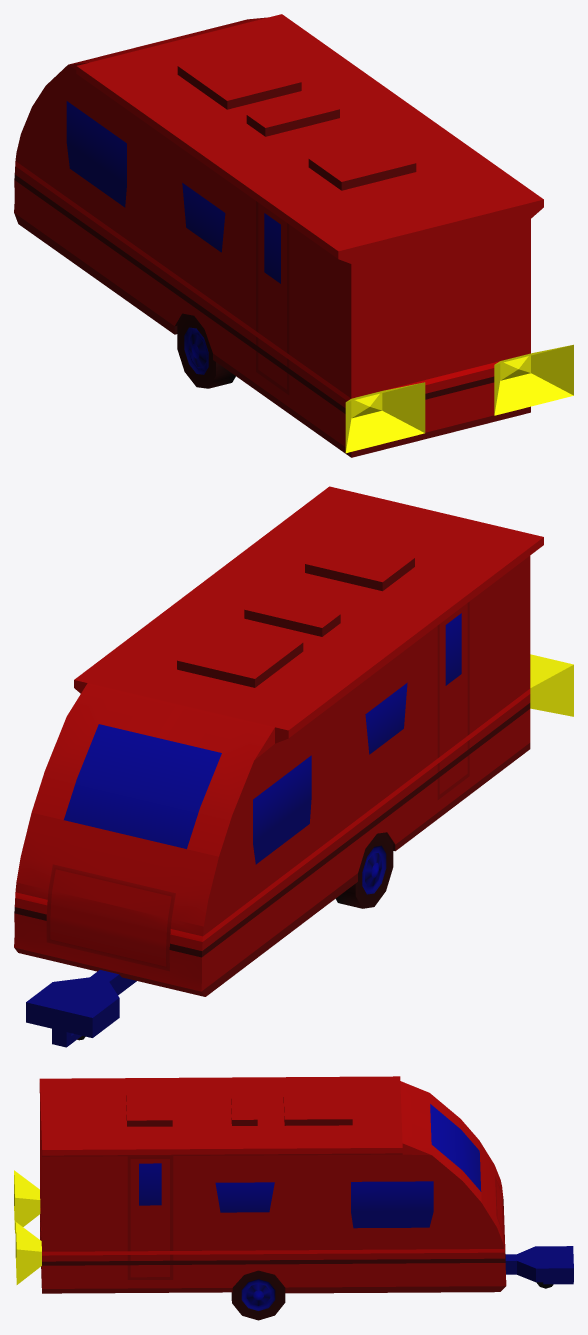
The model's file is Mesh.Caravan.fbx.
3 views of the same model, one above another, from view 1: azimuth 30°, elevation 25°; view 2: azimuth 150°, elevation 25°; view 3: azimuth 270°, elevation 25° (orthographic). The views are drawn at different scales.
Visible parts, largest first — view 1: base.180, light.013, windowRefl.138, refl.049; view 2: base.180, windowRefl.138, refl.049, light.013; view 3: base.180, windowRefl.138, refl.049, light.013.
Boxes of the visible parts, left/top/right/bottom form: base.180: left=14, top=14, right=543, bottom=457; light.013: left=345, top=344, right=573, bottom=453; windowRefl.138: left=66, top=101, right=280, bottom=283; refl.049: left=184, top=327, right=208, bottom=374; base.180: left=14, top=486, right=543, bottom=1040; windowRefl.138: left=64, top=613, right=461, bottom=864; refl.049: left=26, top=845, right=386, bottom=1047; light.013: left=530, top=654, right=573, bottom=716; base.180: left=39, top=1076, right=553, bottom=1320; windowRefl.138: left=139, top=1104, right=481, bottom=1228; refl.049: left=241, top=1246, right=573, bottom=1310; light.013: left=14, top=1170, right=41, bottom=1284.
Bounding box in the file's own units: 889 × 298 × 321.
